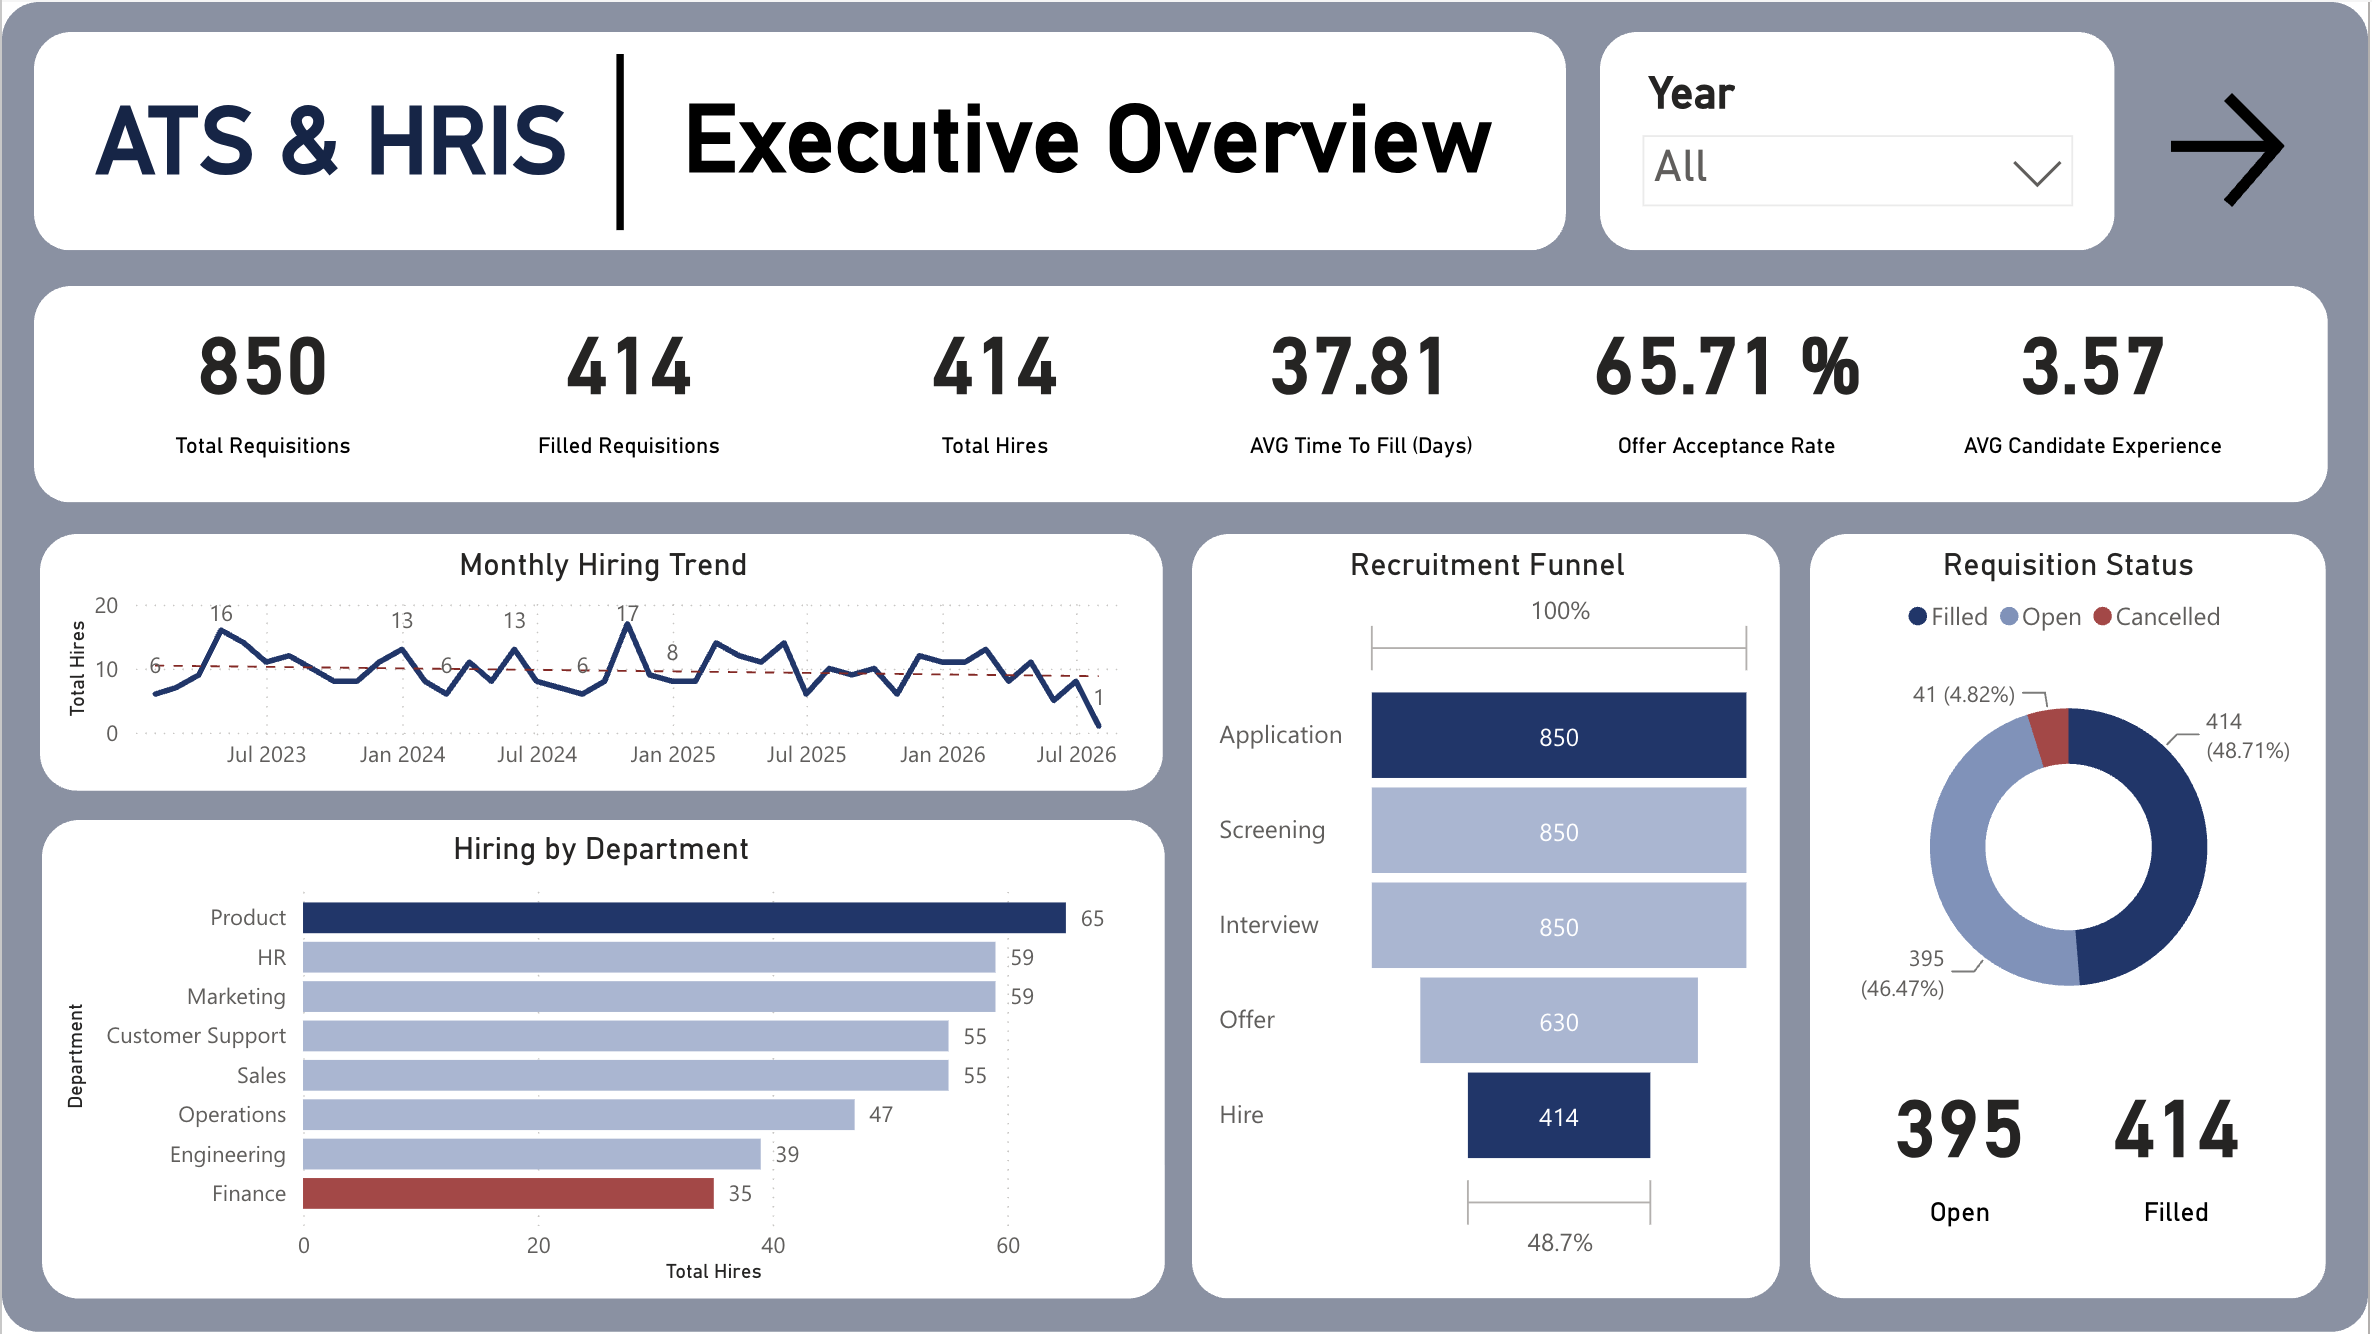

Layout of this report page (visuals, bound fields, positions):
{"tool":"powerbi","page":{"name":"Executive Overview","canvas":[1280,720],"ordinal":0},"visuals":[{"type":"shape","box":[0,0,1280,719.4],"z":0},{"type":"shape","box":[17.8,16.5,828.8,118.2],"z":1000},{"type":"shape","box":[17.4,153.3,1240.9,117.2],"z":2000},{"type":"cardVisual","fields":{"Data":["ats_recruitment_data.total_requisitions","ats_recruitment_data.filled_requisitions","ats_recruitment_data.total_hires","ats_recruitment_data.avg_time_to_fill","ats_recruitment_data.offer_acceptance_rate","ats_recruitment_data.avg_candidate_experience"]},"box":[28.9,163.4,1219.3,107],"z":3000},{"type":"shape","box":[20.2,287.8,607.5,138.8],"z":4000},{"type":"shape","box":[21.7,442.6,607.5,258.9],"z":5000},{"type":"shape","box":[643.6,287.8,318.2,413.6],"z":6000},{"type":"shape","box":[977.7,287.8,279.1,413.6],"z":7000},{"type":"lineChart","title":"Monthly Hiring Trend","fields":{"Category":["ats_recruitment_data.hire_date.Variation.Date Hierarchy.Year","ats_recruitment_data.hire_date.Variation.Date Hierarchy.Month"],"Y":["ats_recruitment_data.total_hires"]},"box":[30.4,296.5,590.1,128.7],"z":8000},{"type":"donutChart","title":"Requisition Status","fields":{"Category":["ats_recruitment_data.requisition_status"],"Y":["CountNonNull(ats_recruitment_data.requisition_status)"]},"box":[987.8,296.5,260.3,276.2],"z":9000},{"type":"barChart","title":"Hiring by Department","fields":{"Category":["ats_recruitment_data.department"],"Y":["ats_recruitment_data.total_hires"]},"box":[28.9,449.8,590.1,247.3],"z":10000},{"type":"cardVisual","fields":{"Data":["ats_recruitment_data.open_requisitions","ats_recruitment_data.filled_requisitions"]},"box":[987.8,574.2,260.3,114.3],"z":11000},{"type":"funnel","title":"Recruitment Pipeline Summary","fields":{"Y":["ats_recruitment_data.total_candidates","ats_recruitment_data.total_screening","ats_recruitment_data.total_interview","ats_recruitment_data.total_offer","ats_recruitment_data.total_hires"]},"box":[653.2,296,300.2,390.5],"z":12000},{"type":"textbox","box":[45.8,47,279.6,77.5],"z":13000},{"type":"shape","box":[287.3,28,95.3,95.3],"z":14000},{"type":"textbox","box":[363.5,45.8,469,77.5],"z":15000},{"type":"shape","box":[864.3,16.5,278.4,118.2],"z":16000},{"type":"actionButton","box":[1165.6,36.9,73.7,86.4],"z":17000},{"type":"slicer","fields":{"Values":["date.year"]},"box":[877.1,33,252.9,90.2],"z":18000}]}

Visuals, with their boxes in screenshot pixels (x1, y1, x2, y2), scaled from the page's 1280x720 canvas onto the 2372x1334 screenshot:
shape: <bbox>0, 0, 2371, 1333</bbox>
shape: <bbox>33, 31, 1569, 250</bbox>
shape: <bbox>32, 284, 2332, 501</bbox>
cardVisual - ats_recruitment_data.total_requisitions x ats_recruitment_data.filled_requisitions: <bbox>54, 303, 2313, 501</bbox>
shape: <bbox>37, 533, 1163, 790</bbox>
shape: <bbox>40, 820, 1166, 1300</bbox>
shape: <bbox>1193, 533, 1782, 1300</bbox>
shape: <bbox>1812, 533, 2329, 1300</bbox>
"Monthly Hiring Trend" lineChart: <bbox>56, 549, 1150, 788</bbox>
"Requisition Status" donutChart: <bbox>1831, 549, 2313, 1061</bbox>
"Hiring by Department" barChart: <bbox>54, 833, 1147, 1292</bbox>
cardVisual - ats_recruitment_data.open_requisitions x ats_recruitment_data.filled_requisitions: <bbox>1831, 1064, 2313, 1276</bbox>
"Recruitment Pipeline Summary" funnel: <bbox>1210, 548, 1767, 1272</bbox>
textbox: <bbox>85, 87, 603, 231</bbox>
shape: <bbox>532, 52, 709, 228</bbox>
textbox: <bbox>674, 85, 1543, 228</bbox>
shape: <bbox>1602, 31, 2118, 250</bbox>
actionButton: <bbox>2160, 68, 2297, 228</bbox>
slicer - date.year: <bbox>1625, 61, 2094, 228</bbox>
